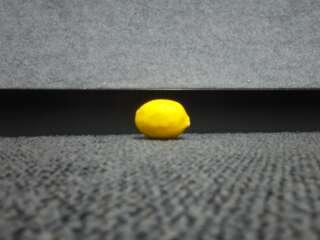lemon: (134, 100, 189, 140)
